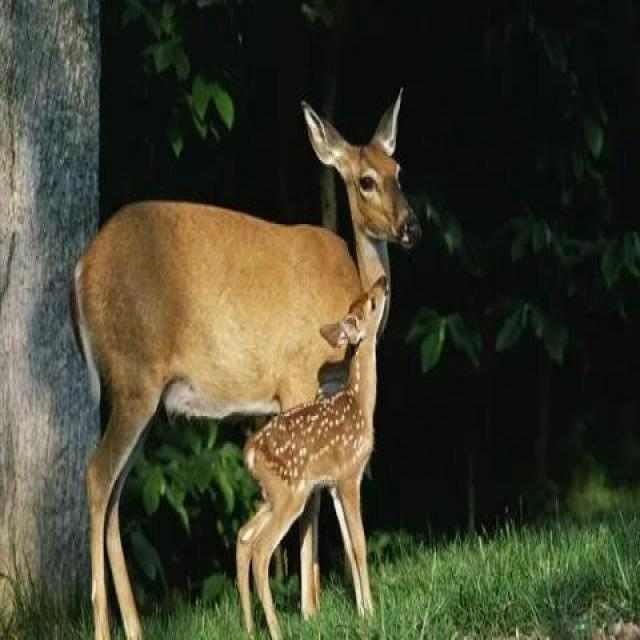deer: (96, 98, 468, 553), (254, 262, 438, 598)
